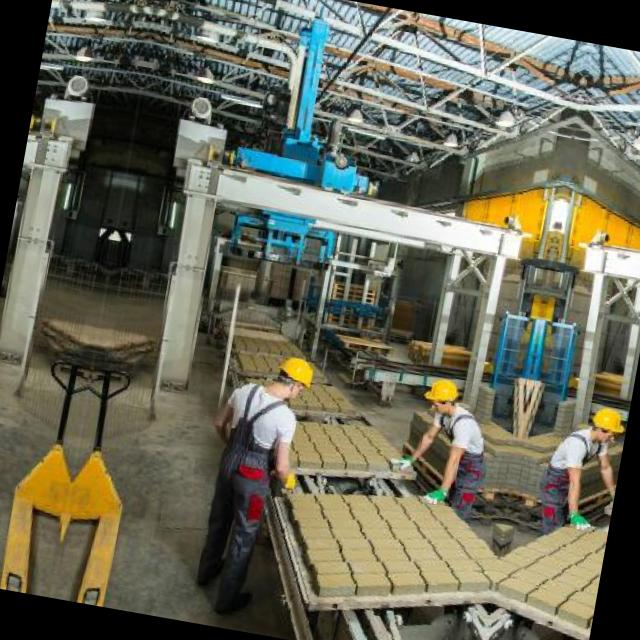helmet: (272, 352, 312, 397), (417, 376, 458, 416), (587, 406, 628, 446)
